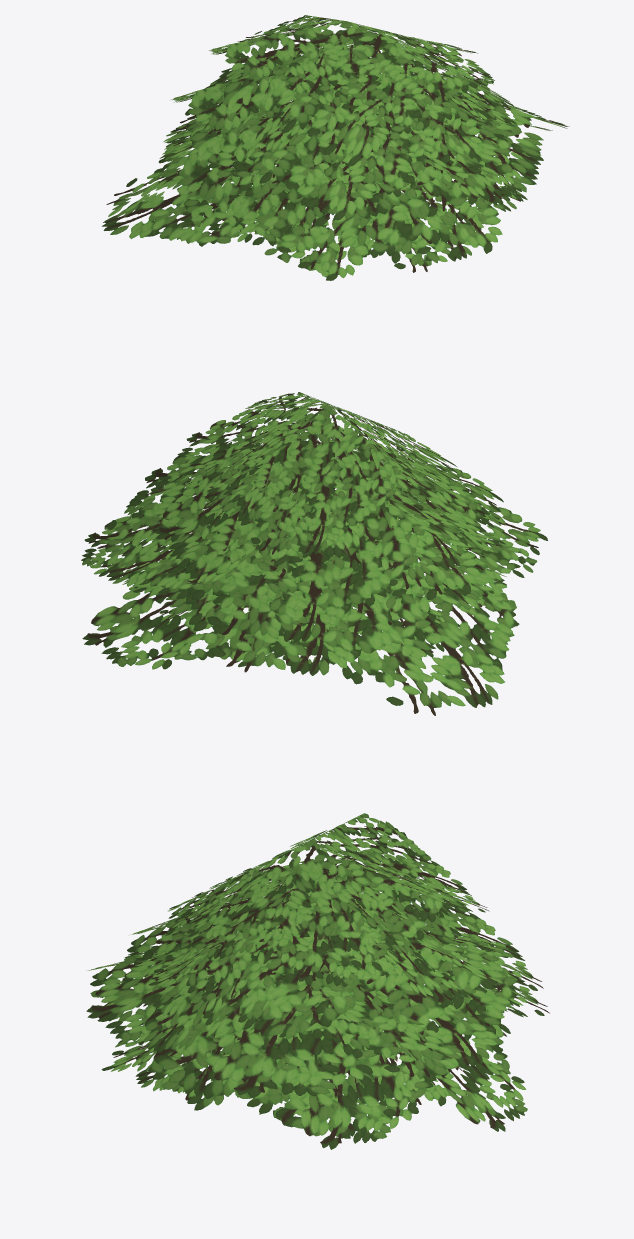
Rendered from Bush02.fbx.
3 renders of one model, top to bottom at view 1: azimuth 30°, elevation 25°; view 2: azimuth 150°, elevation 25°; view 3: azimuth 270°, elevation 25°, orthographic. The views are drawn at different scales.
Parts seen in each view (by area): view 1: Bush02; view 2: Bush02; view 3: Bush02.
Part boxes in pixels (x1,y1,x2,y2): Bush02: [102, 15, 569, 280]; Bush02: [81, 392, 547, 715]; Bush02: [86, 813, 549, 1149].
Size of the model in its own units: 305 by 133 by 280.
